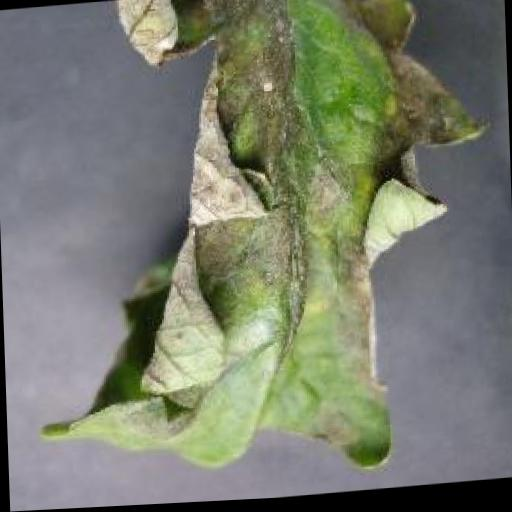Late Blight: (20, 0, 499, 501)
